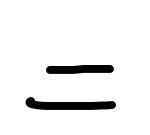eqv: (22, 63, 119, 114)
